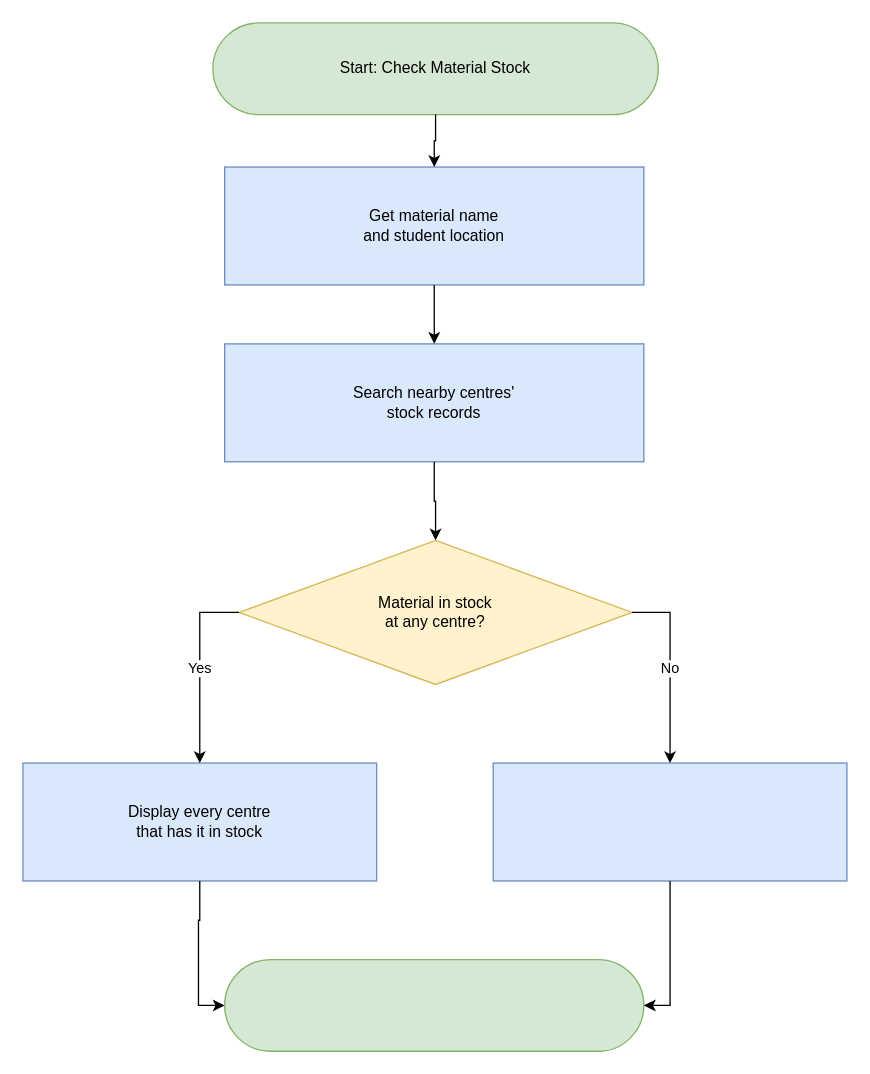
Image size: 870x1074. Some labels were removed from this diagram. Here are the shapes that lost their labels. From the top down, the centre of each, then its label:
At pixel 669 821: "Display: Not currently in stock nearby".
At pixel 433 1004: "Log interaction and End".
